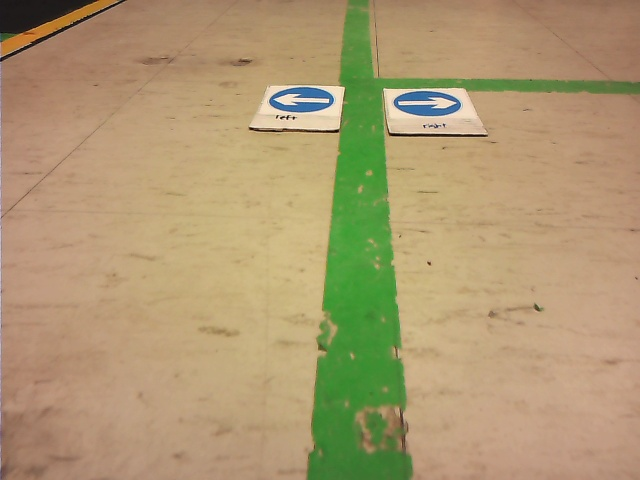TURN LEFT: (269, 87, 334, 111)
TURN RIGHT: (394, 91, 461, 115)
